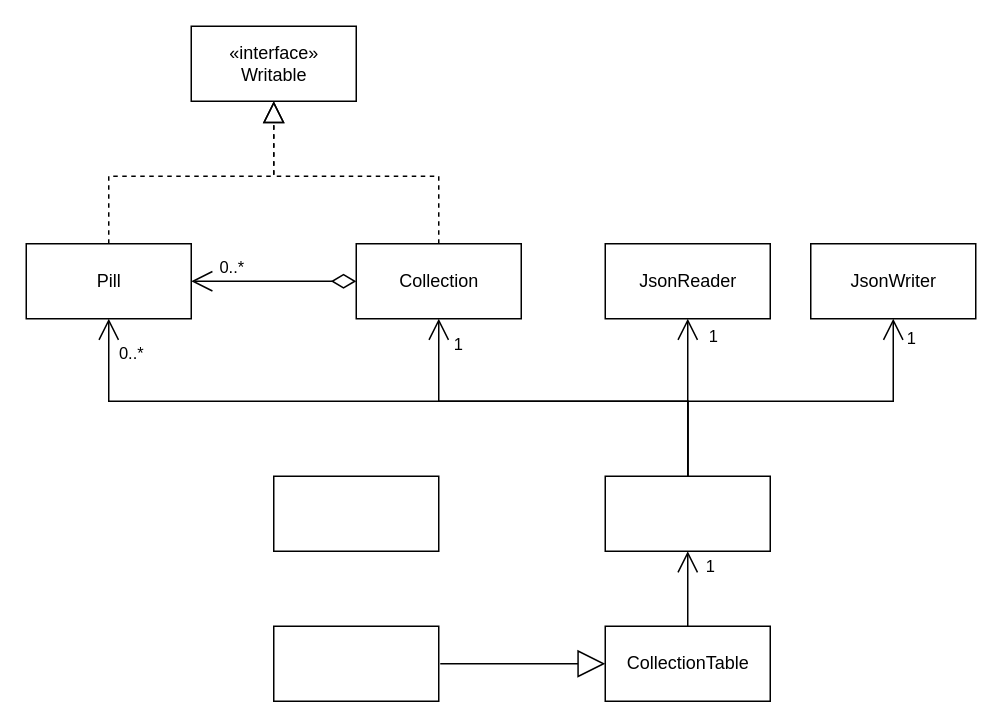
Image size: 1002x728. Some labels were removed from this diagram. Here are the shapes that lost their labels. From the top down, the centre of each, then its label:
At point (355, 513): "Main".
At point (687, 513): "PillTableModel".
At point (355, 663): "MenuBar".
